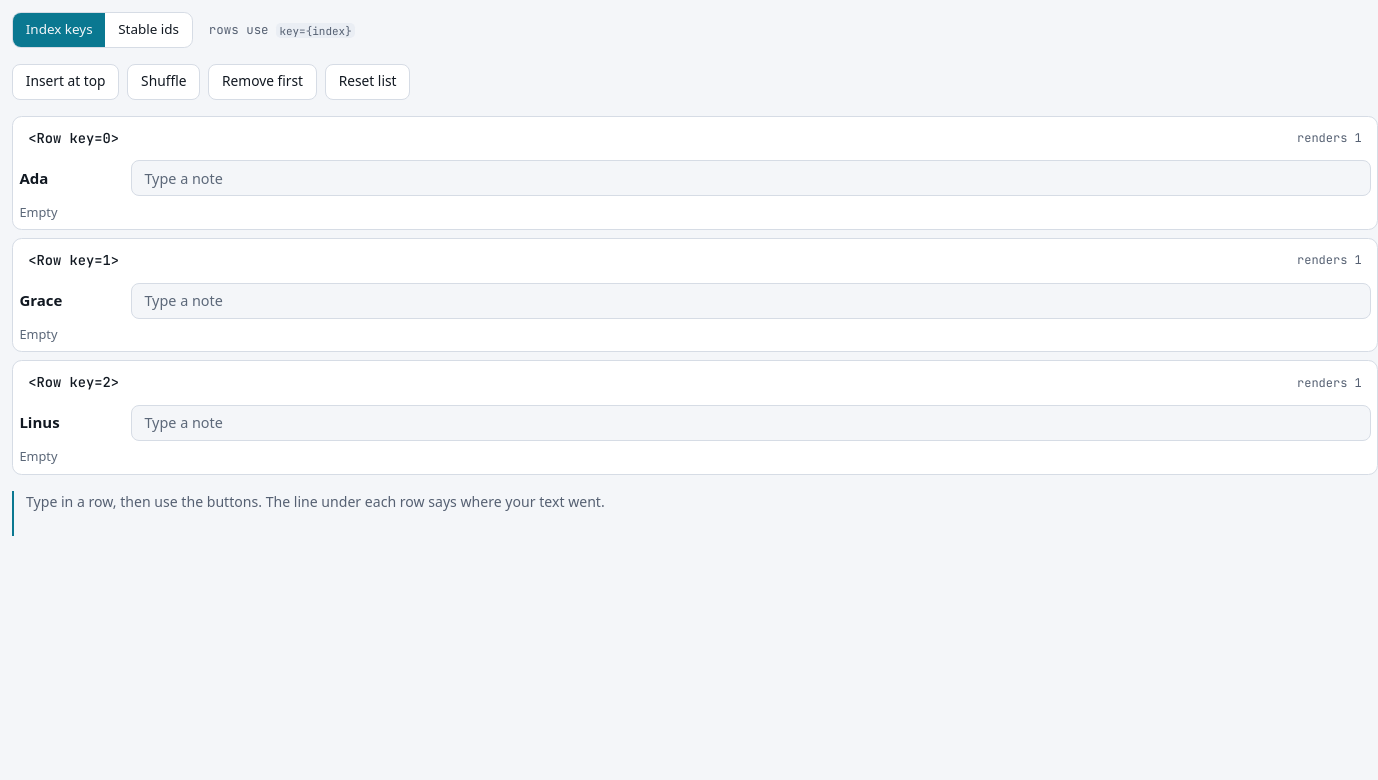
Scenario: key-chaos lab › reset restores the list and clears every input
Type "alpha" into the field with placeholder "Type a note" next to "Ada". click: (751, 178)
box: [131,160,1371,196]
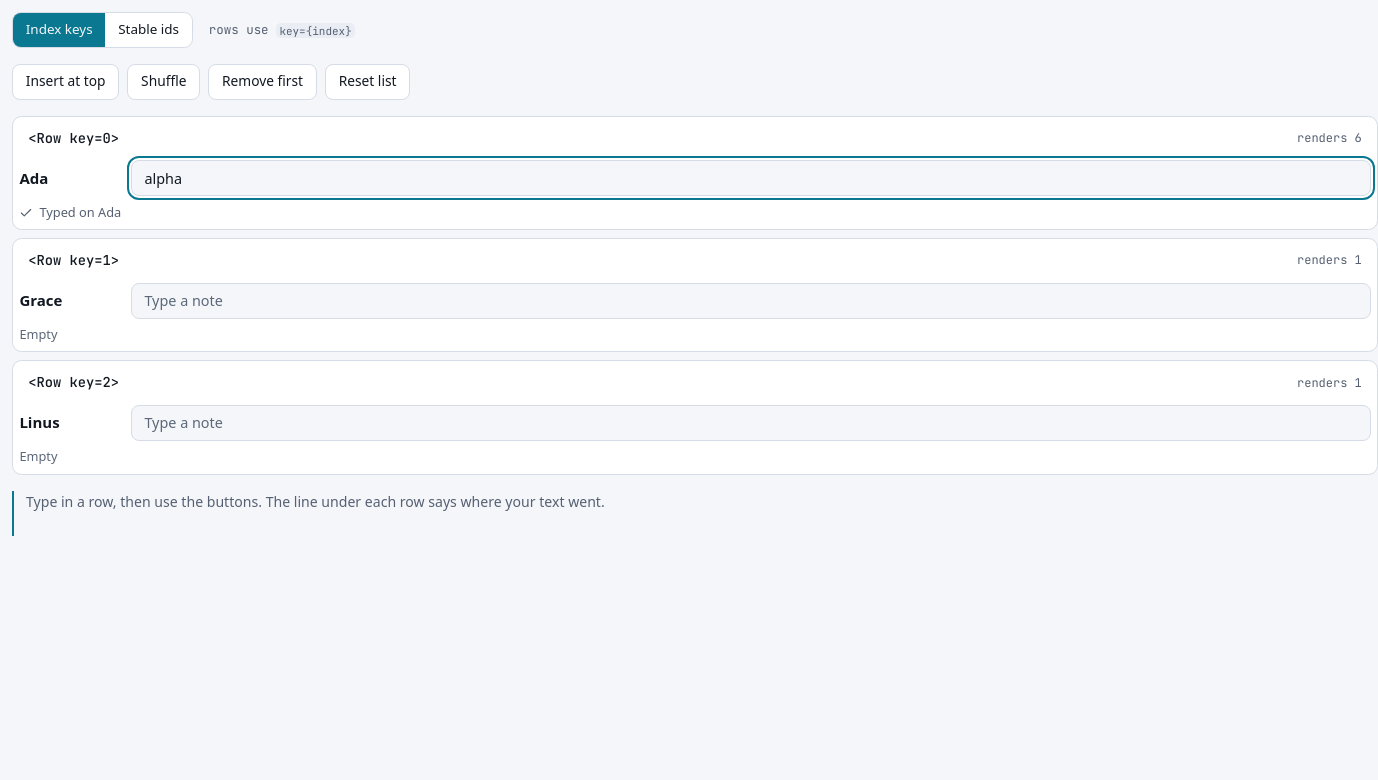
Click the button "Insert at top". click: (66, 82)
box: [12,64,119,100]
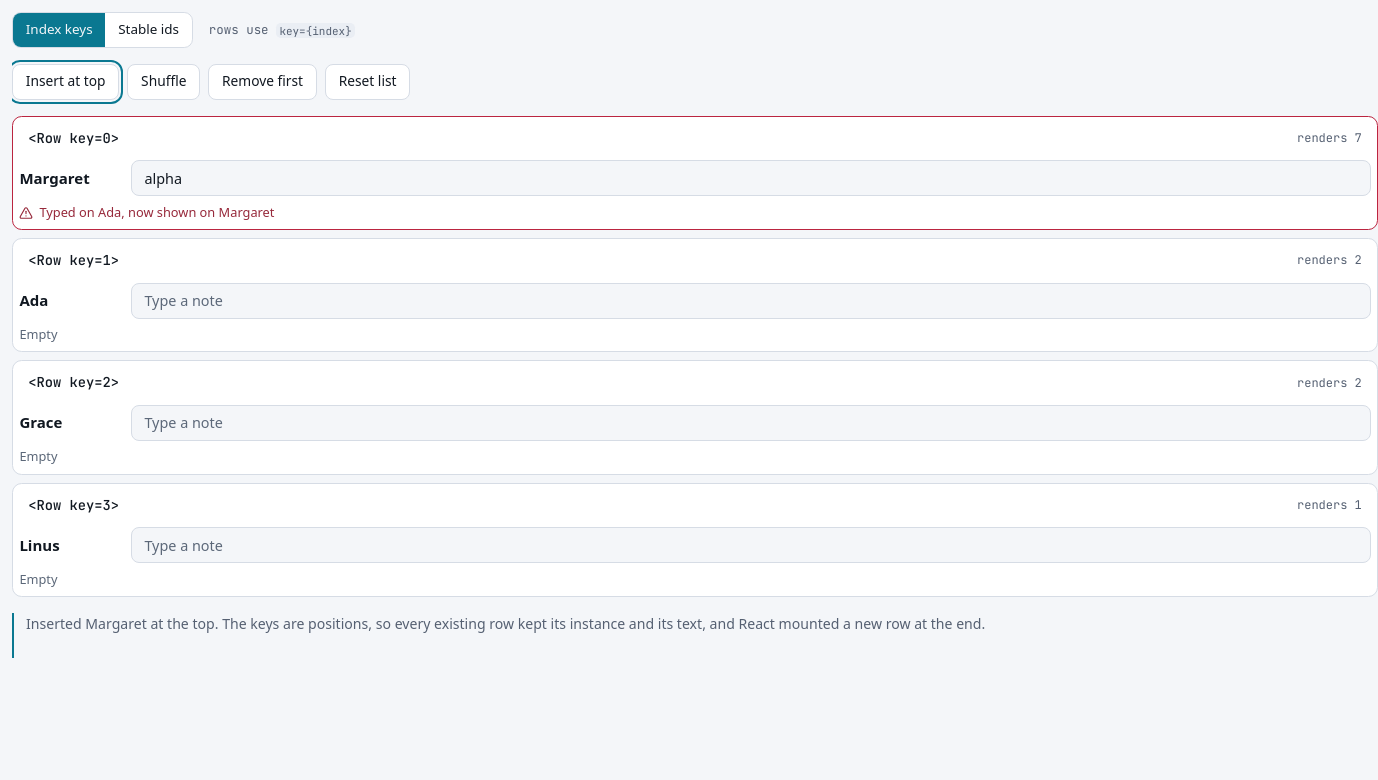
Click the button "Reset list". click: (368, 82)
box: [325,64,410,100]
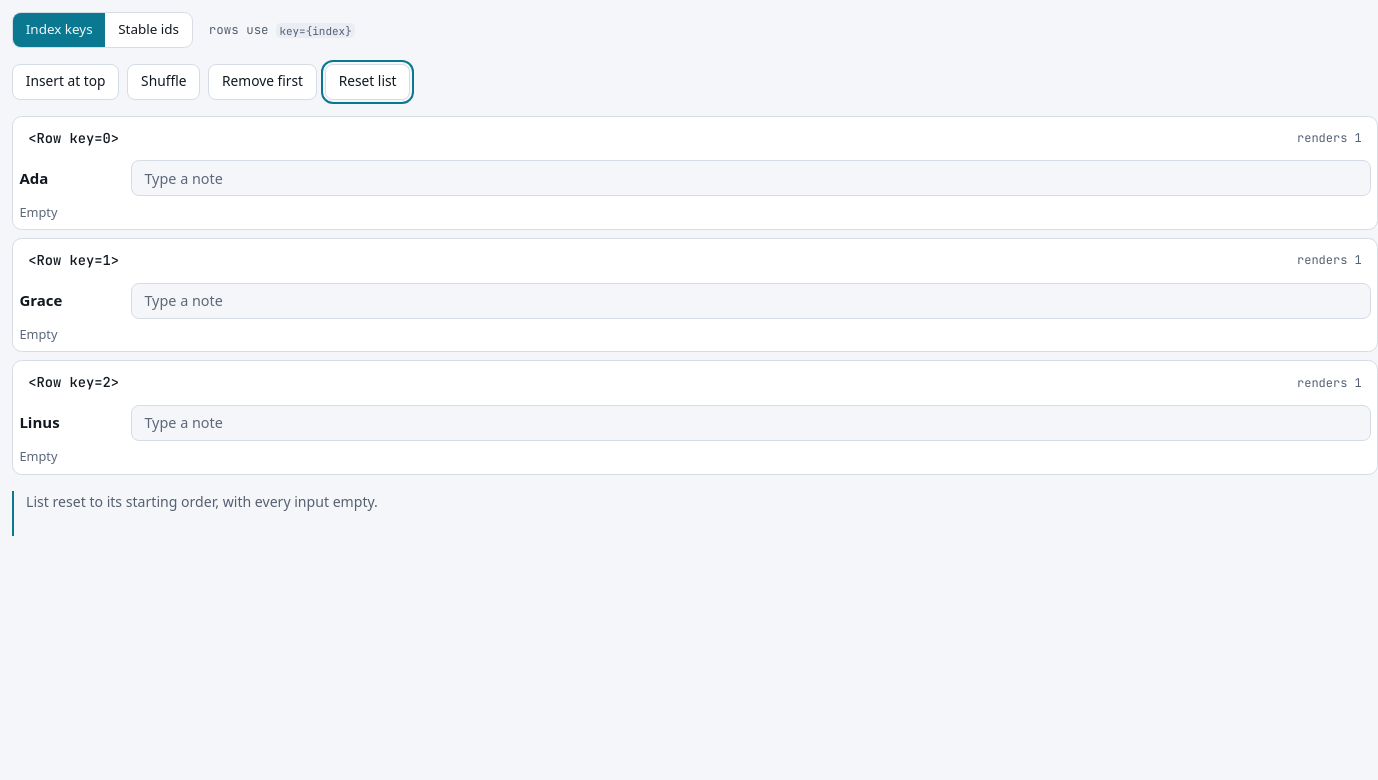
Result: the field with placeholder "Type a note" next to "Ada" is empty at [131,160,1371,196]
